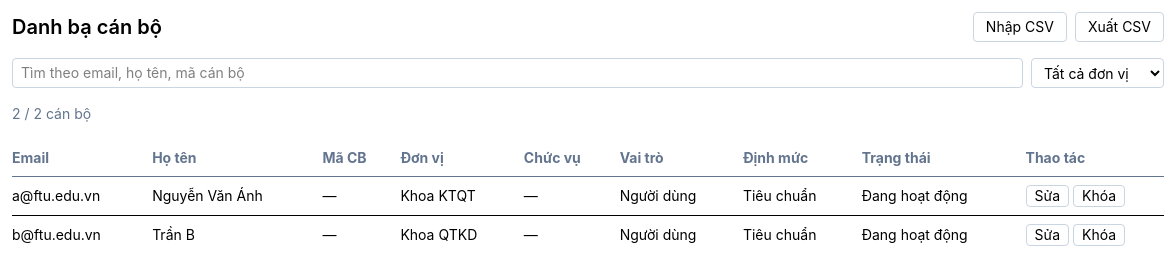
DirectoryPage › searches without diacritics and filters by department subtree
The width and height of the screenshot is (1176, 263).
Check: the text "2 / 2 cán bộ" is shown, box [12, 105, 91, 122]
Type "nguyen anh" into the search field named "Tìm kiếm".
click(518, 73); type("nguyen anh")  # box [12, 58, 1023, 88]
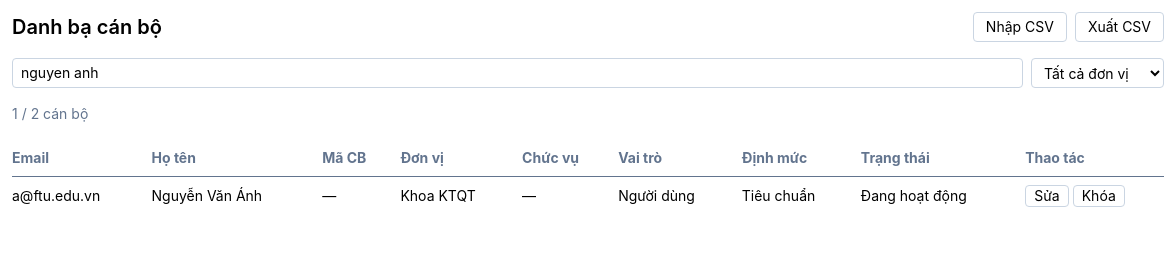
Check: the text "1 / 2 cán bộ" is shown, box [12, 105, 88, 122]
Clear the search field named "Tìm kiếm" at point(518, 73), box [12, 58, 1023, 88]
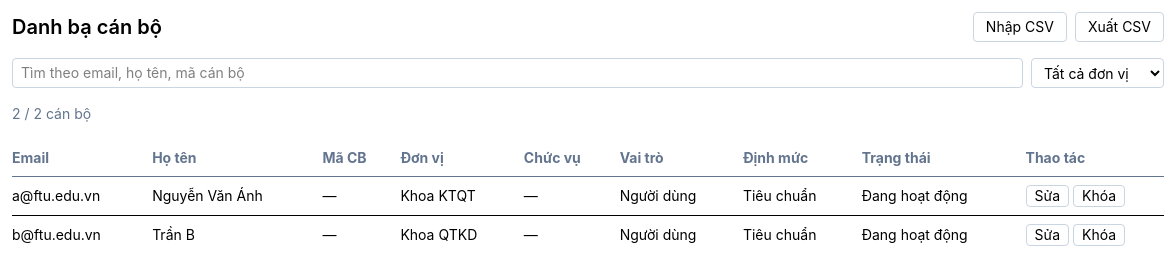
Select "— Khoa QTKD" in the dropdown named "Lọc theo đơn vị" at point(1098, 73), box [1031, 58, 1164, 88]
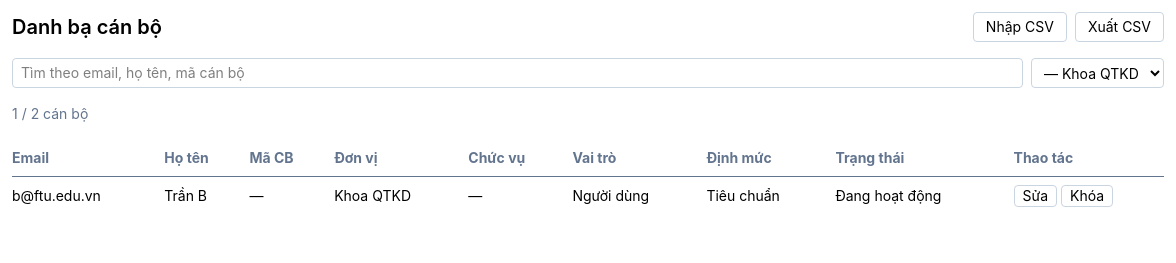
Check: the text "b@ftu.edu.vn" is shown, box [12, 176, 164, 215]
Check: the text "a@ftu.edu.vn" is gone
